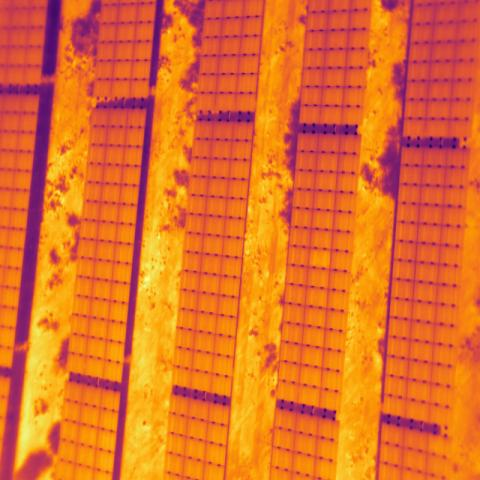fault: (307, 247, 333, 271)
